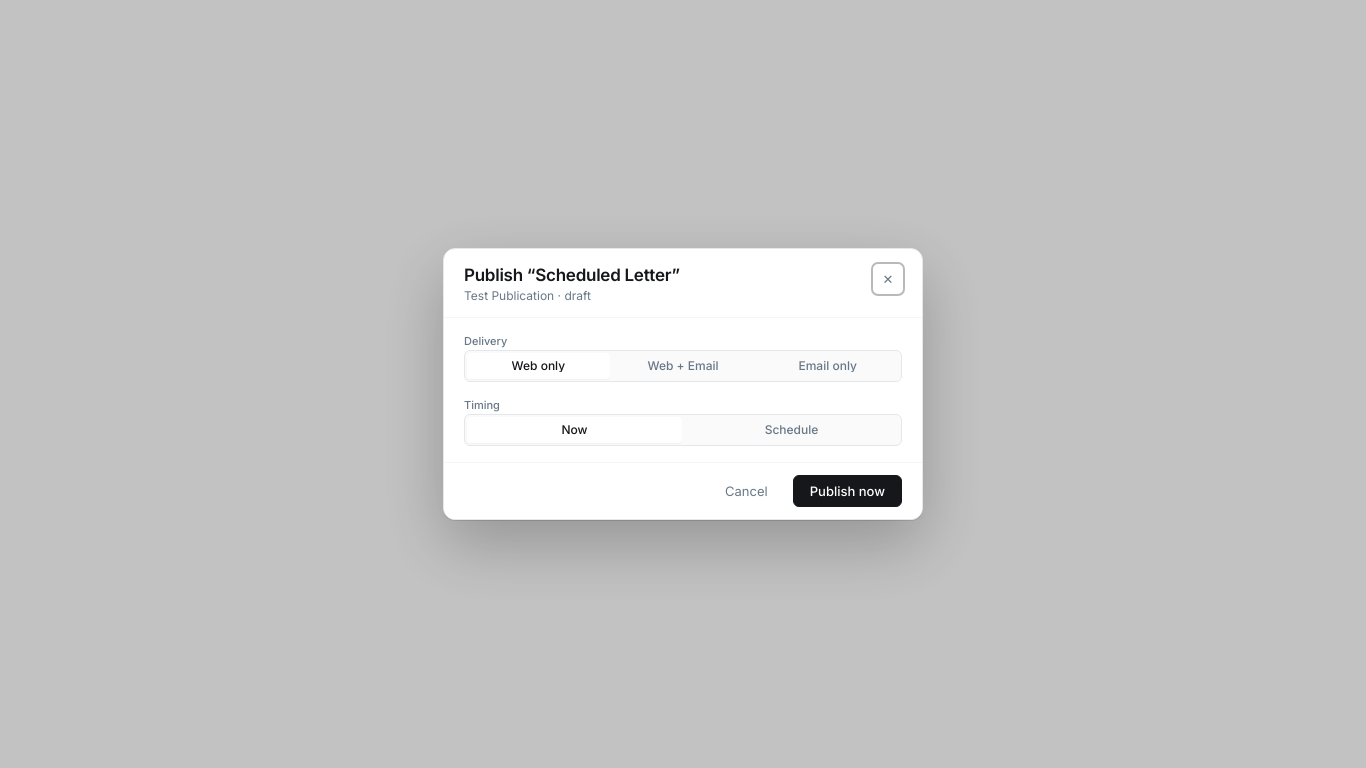
Test: PublishModal › blocks email-only scheduled publishing without a valid future datetime
Later steps or results of the test are not shown.
// Switch delivery to Email only
Click the radio button labelled "Email only" at (828, 366), box [798,358,857,373]
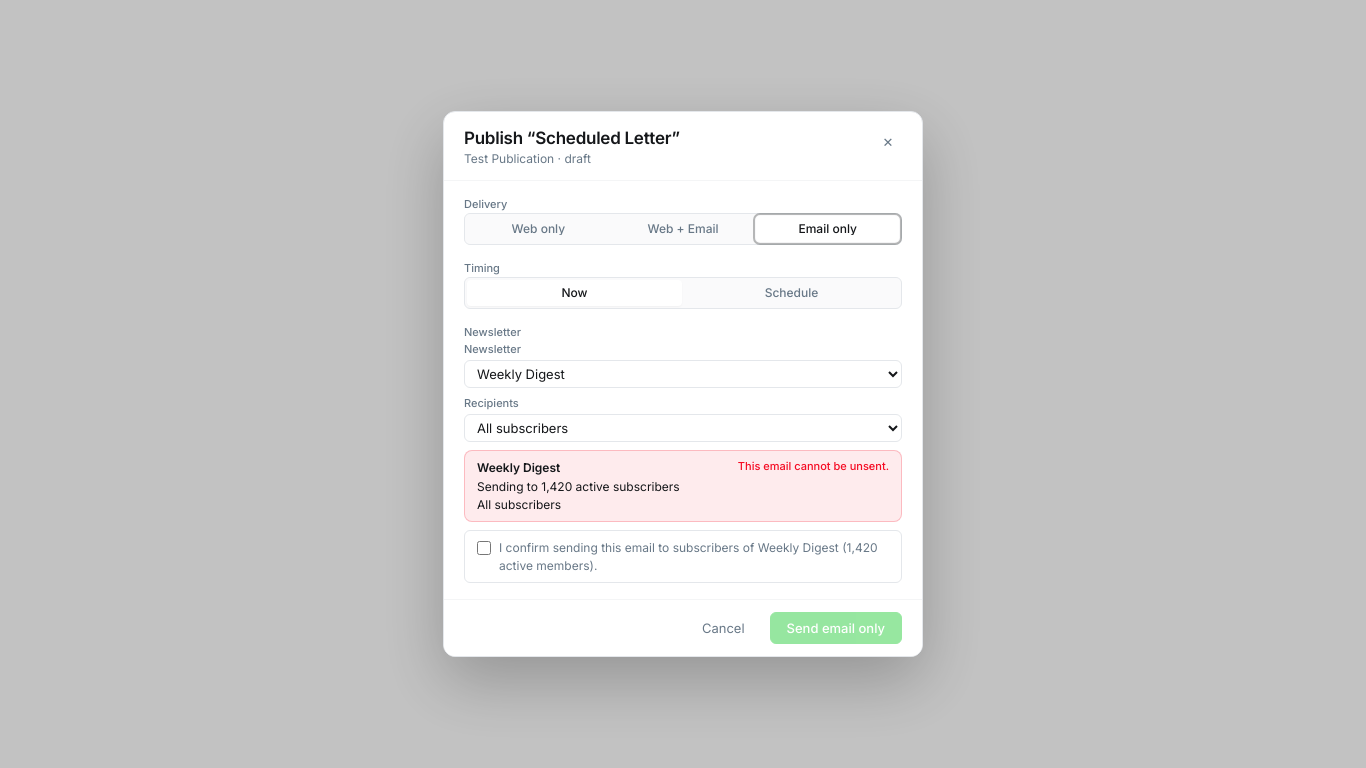
// Switch timing to Schedule
Click the radio button labelled "Schedule" at (792, 293), box [765,285,818,300]
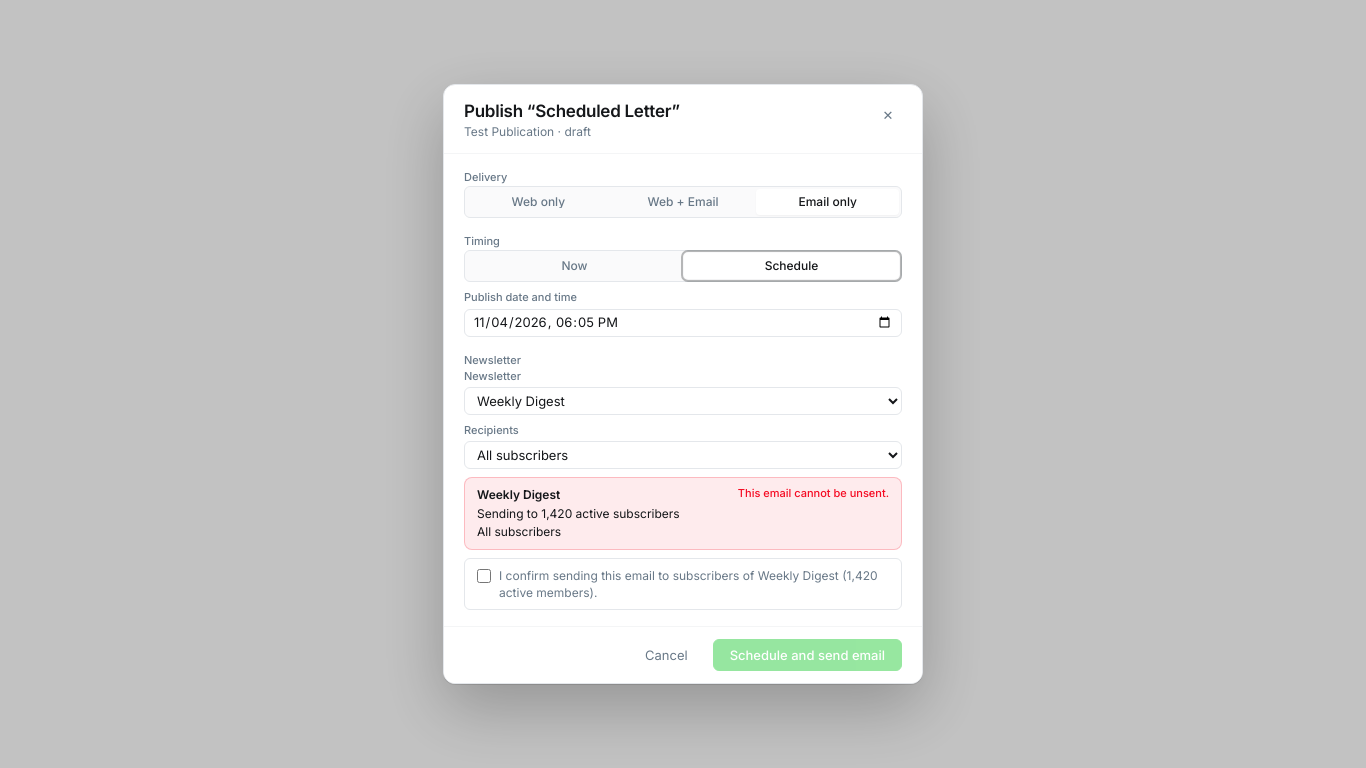
Now the field labelled "Publish date and time" is shown, box [464,308,902,336]
Click the checkbox named "active members" at (484, 576), box [477,569,491,583]
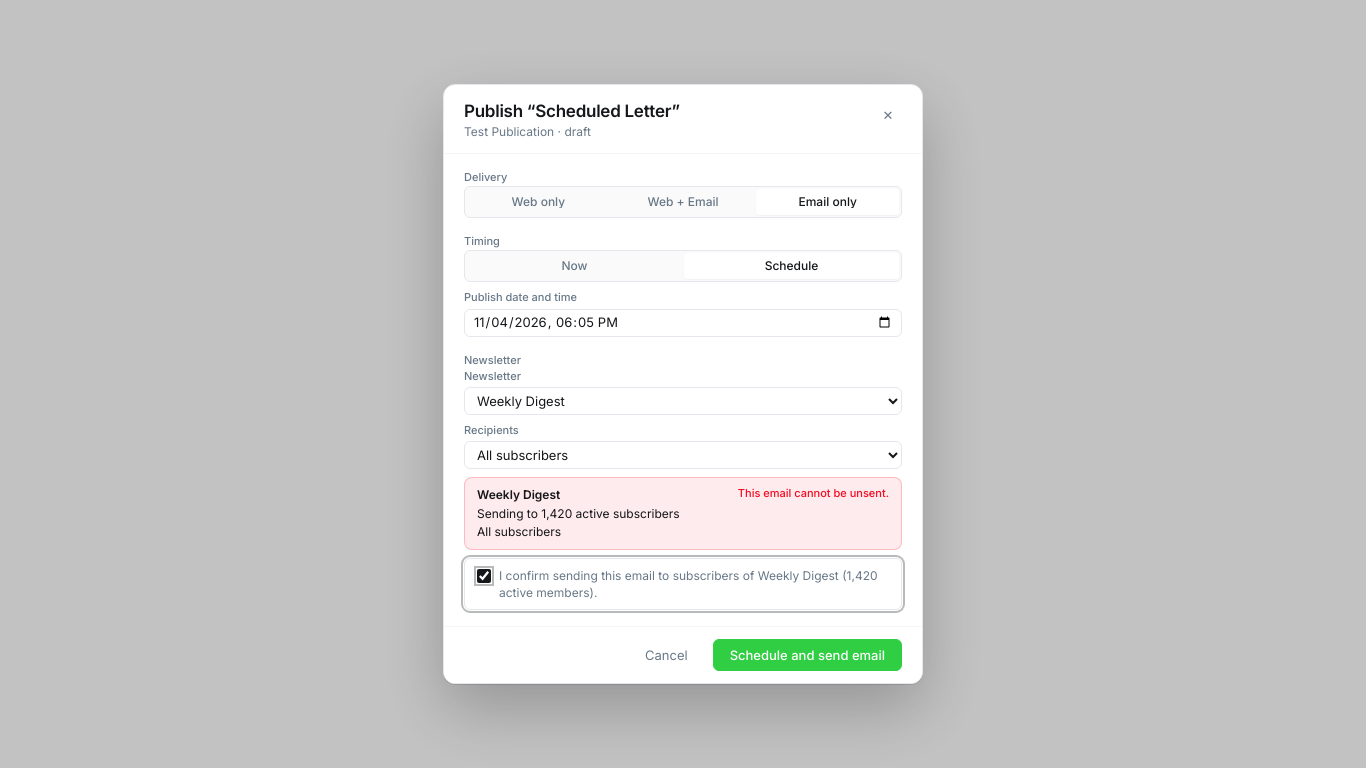
Now the button "Schedule and send email" is enabled, box [713,639,902,671]
Replace the text in the field labelled "Publish date and time" with "2020-01-01T12:00" at (683, 322), box [464,308,902,336]
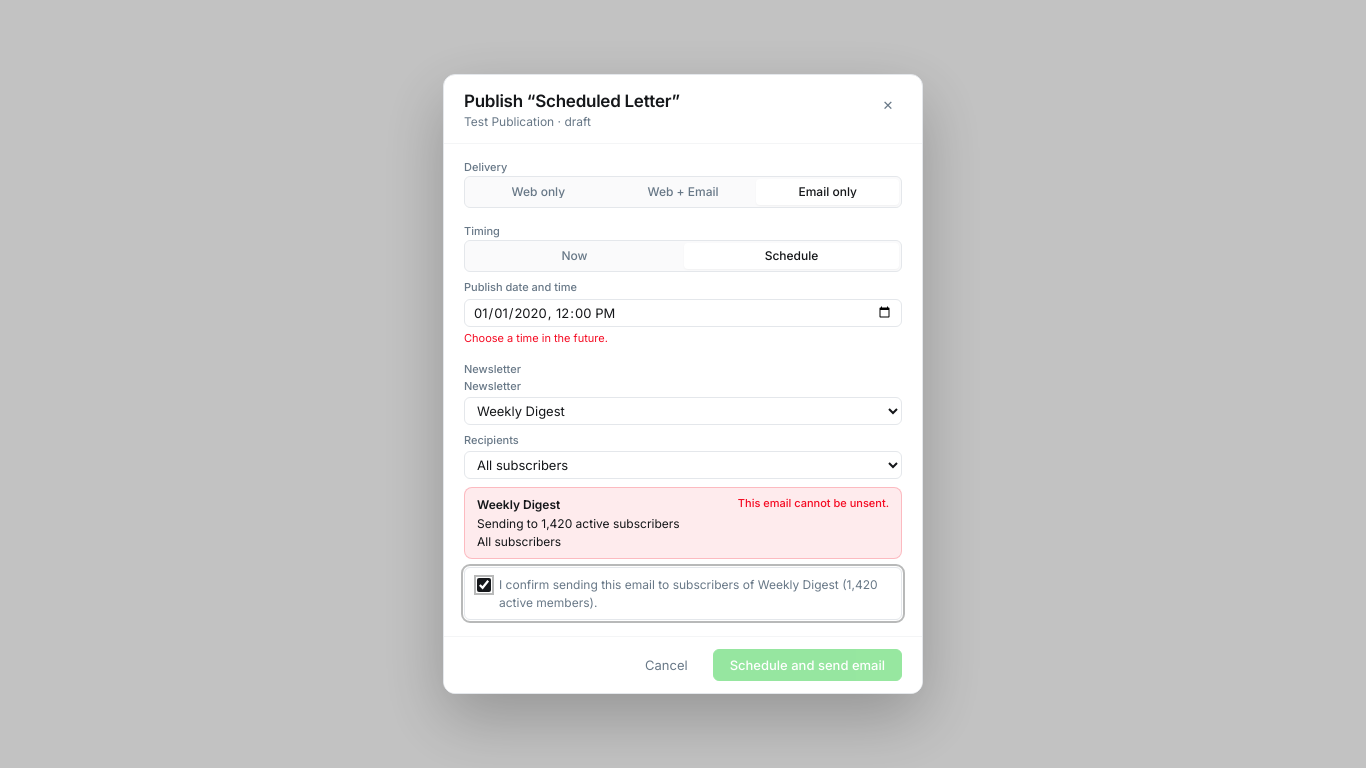
Now the text "Choose a time in the future." is shown, box [464,331,608,345]
Now the button "Schedule and send email" is disabled, box [713,649,902,681]
Clear the field labelled "Publish date and time" at (683, 313), box [464,299,902,327]
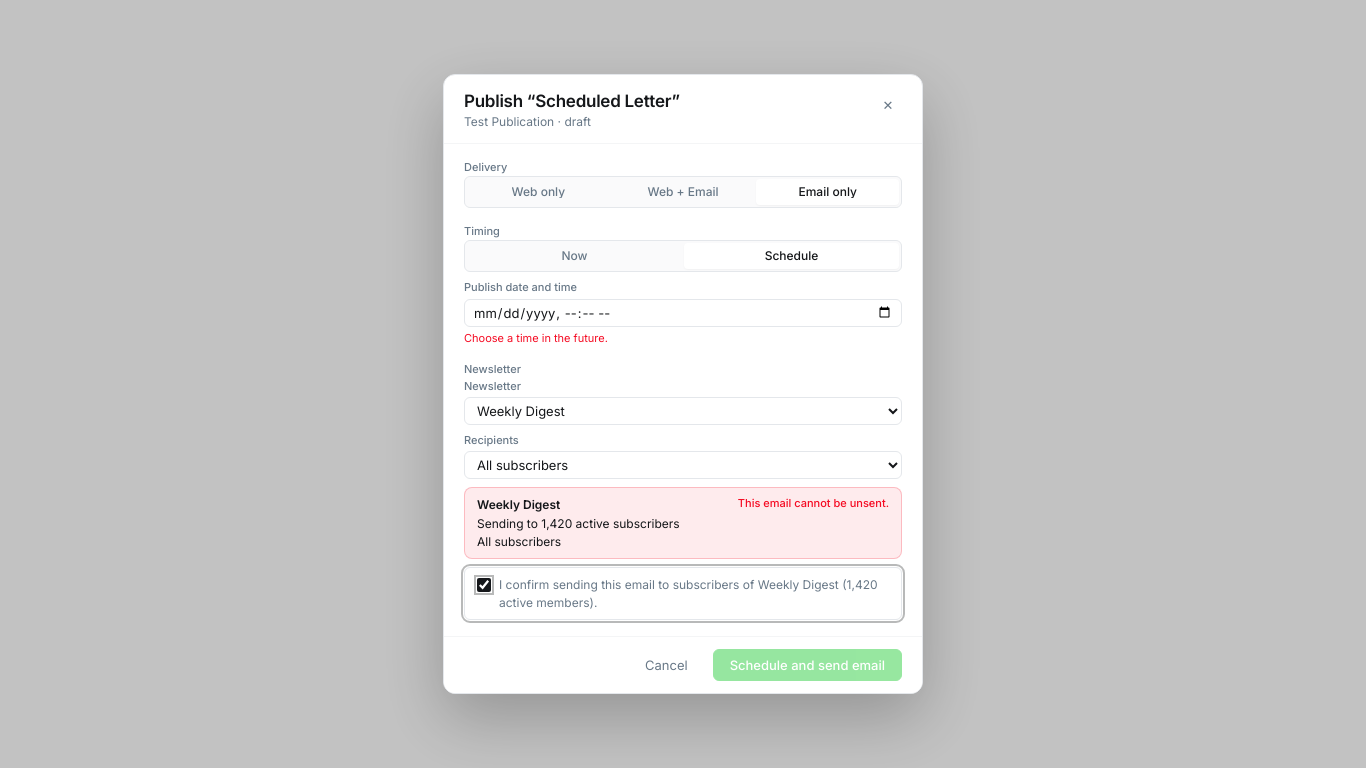
Now the button "Schedule and send email" is disabled, box [713,649,902,681]
Type "2099-06-15T10:00" into the field labelled "Publish date and time" at (683, 313), box [464,299,902,327]
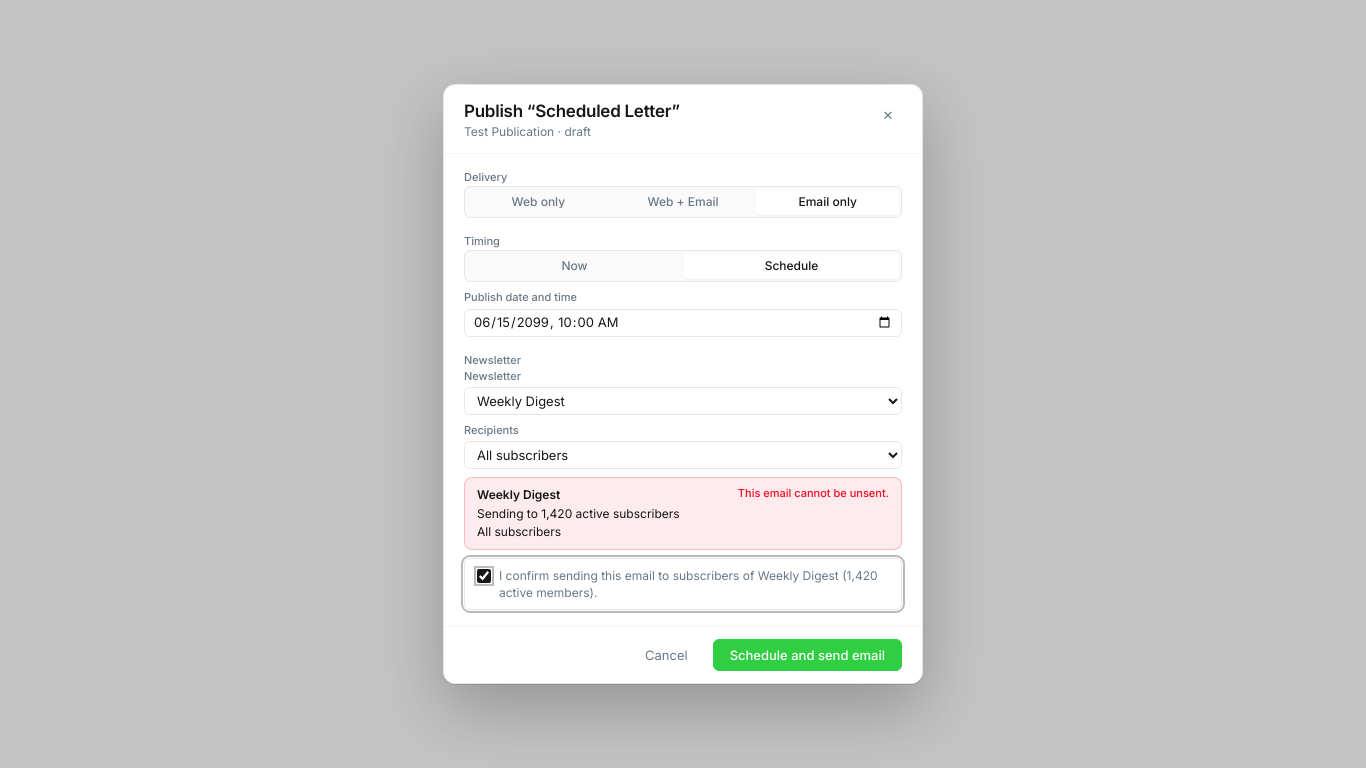
Now the text "Choose a time in the future." is gone
Now the button "Schedule and send email" is enabled, box [713,639,902,671]
